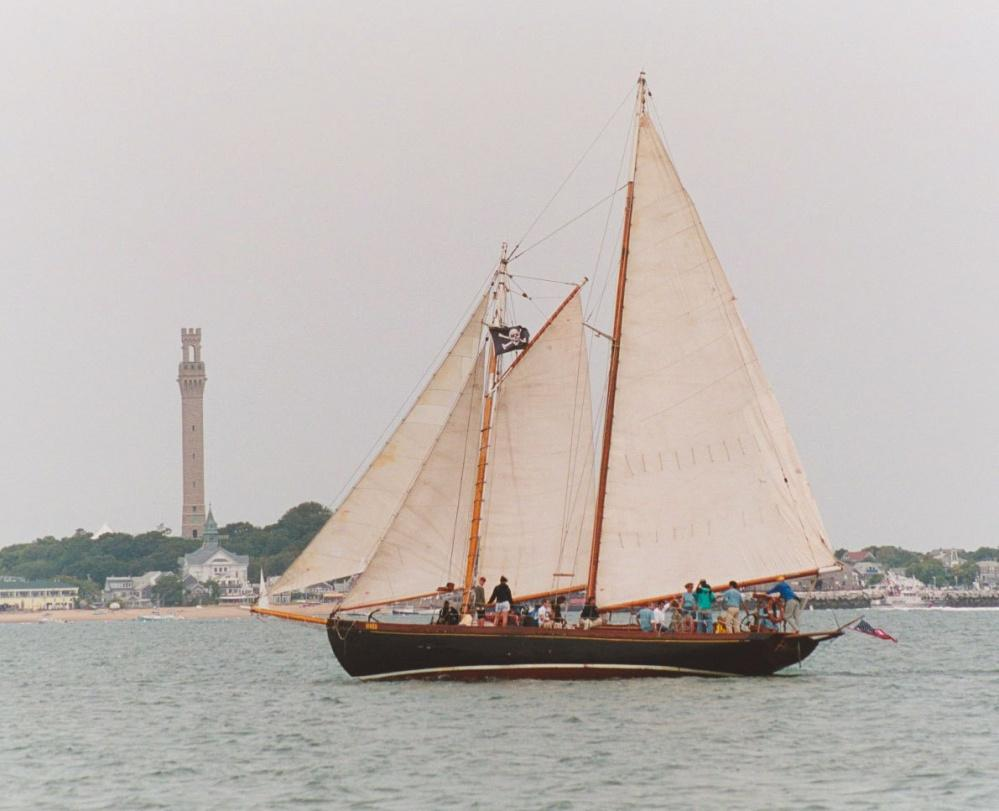Ship: (250, 68, 899, 684)
